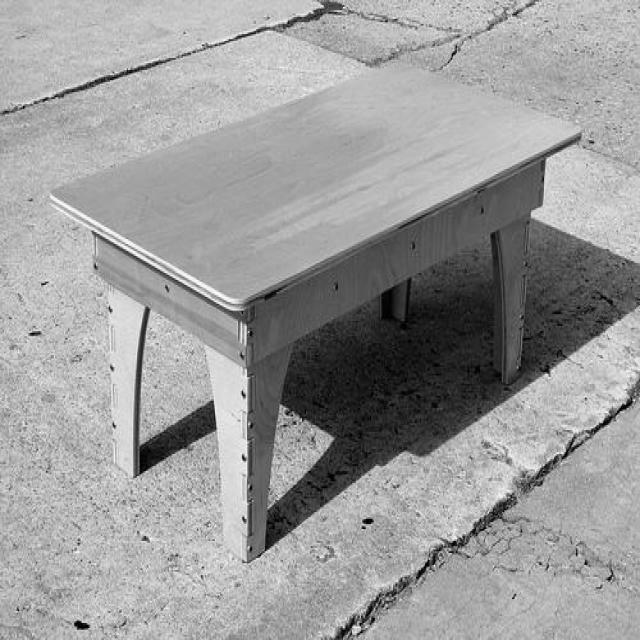table: (50, 59, 588, 568)
